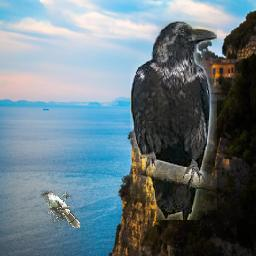Crow: (131, 22, 218, 221)
Cuckoo: (40, 192, 80, 229)
